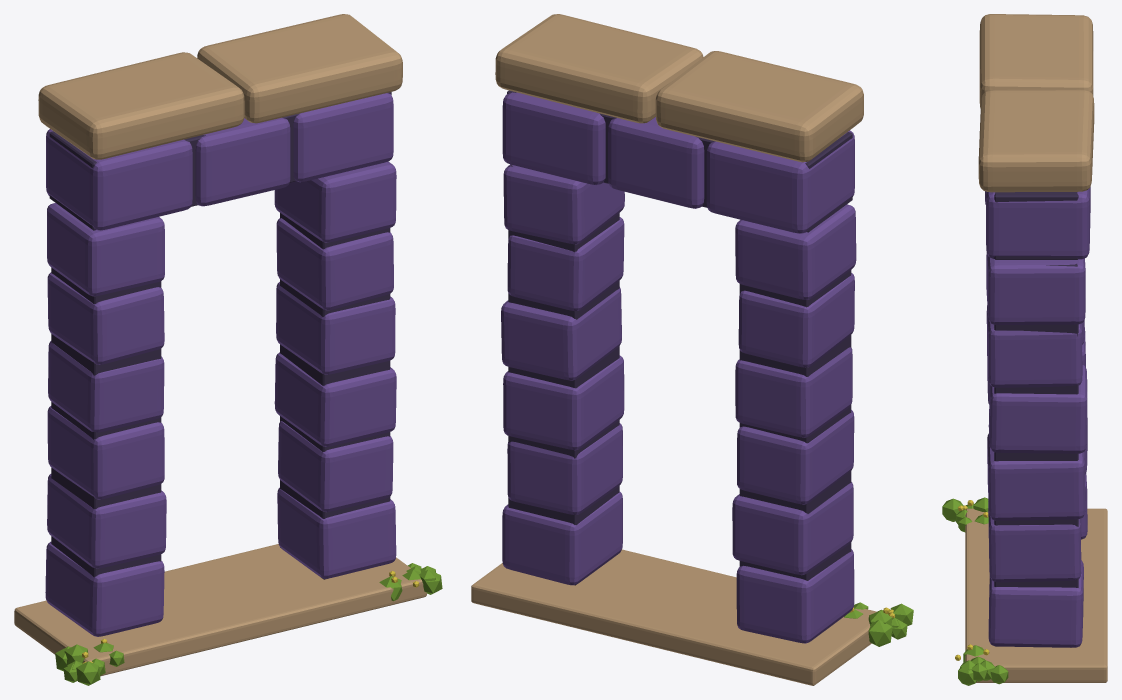
The model's file is TriangleDoor_frame.glb.
The picture shows the model from 3 angles, left to right: view 1: azimuth 30°, elevation 25°; view 2: azimuth 150°, elevation 25°; view 3: azimuth 270°, elevation 25°; orthographic projection. The views are drawn at different scales.
Visible parts, largest first — view 1: TriangleDoor_frame; view 2: TriangleDoor_frame; view 3: TriangleDoor_frame.
Boxes of the visible parts, bbox=[...] form: TriangleDoor_frame: bbox=[14, 14, 442, 685]; TriangleDoor_frame: bbox=[471, 14, 913, 685]; TriangleDoor_frame: bbox=[942, 14, 1107, 685].
Bounding box in the file's own units: 1.28 × 1.78 × 0.5109.
